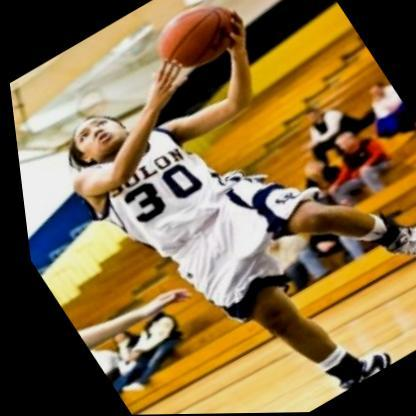basketball: (138, 0, 260, 87)
